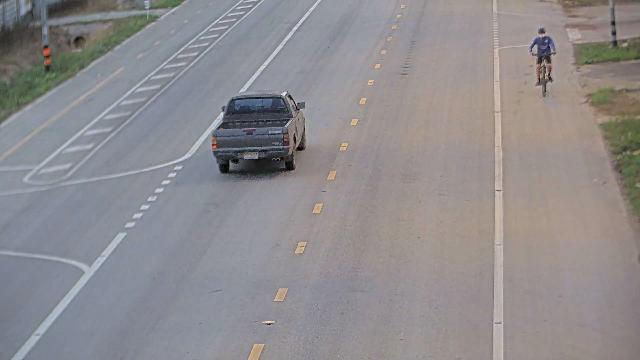pickup-truck: (210, 89, 306, 174)
